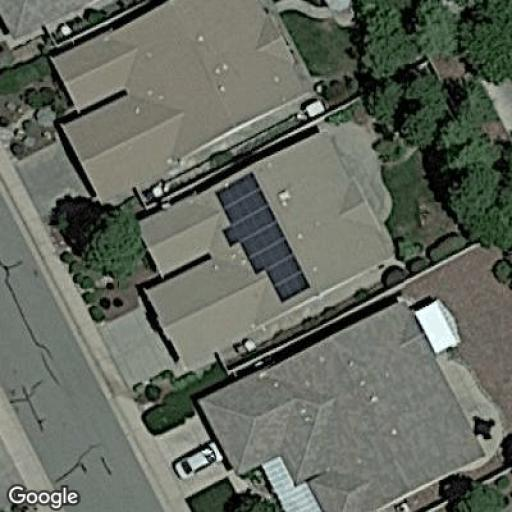solar-panel: (213, 170, 311, 304)
